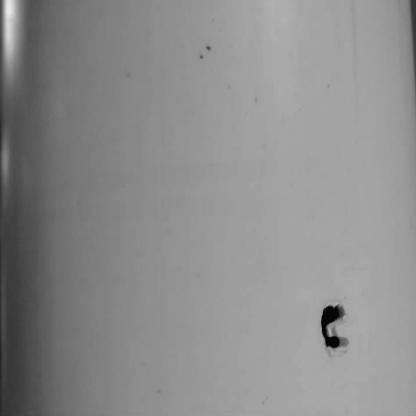kongdong: (317, 301, 356, 361)
